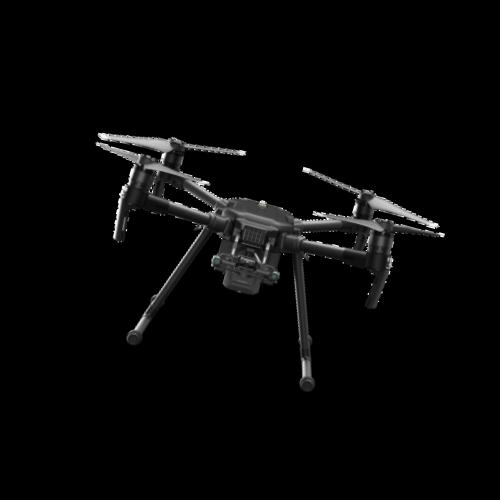drone: (52, 106, 452, 336)
